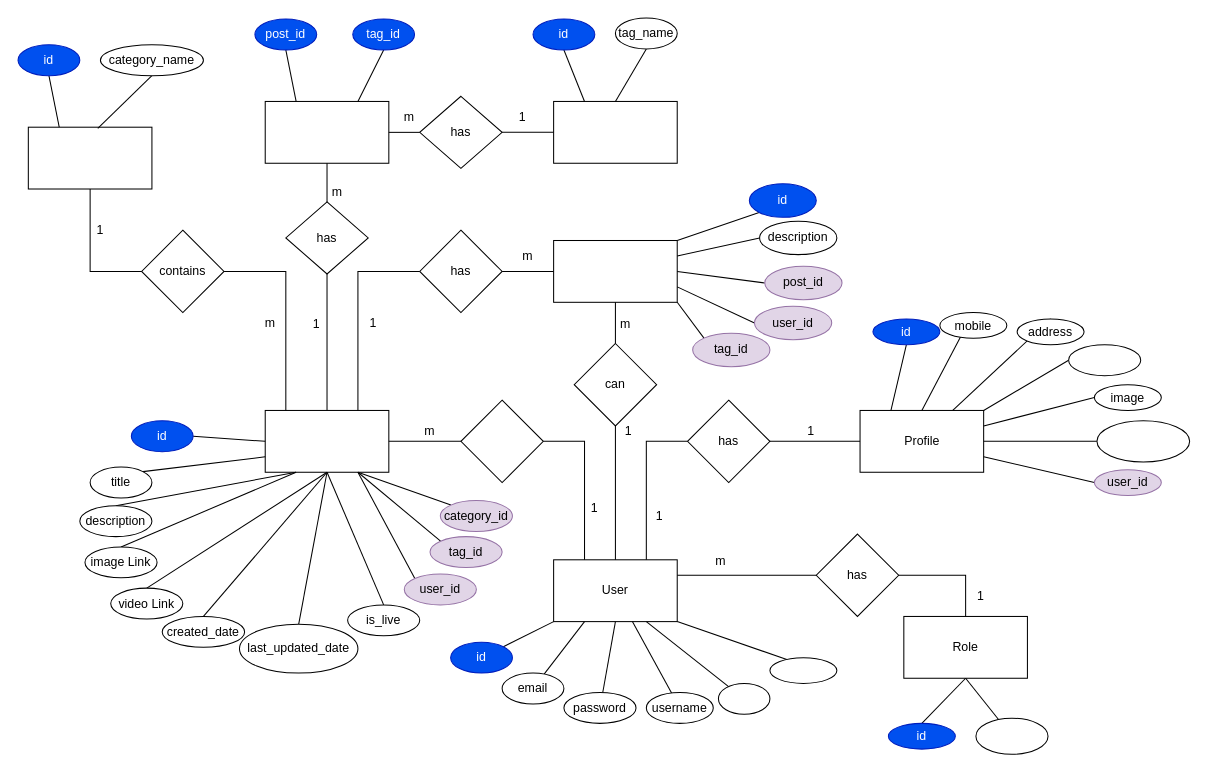
This 1208x773 diagram has some shape labels left out. Here are the shapes that lost their labels. From the top down, the centre of each, then its label:
At pixel 326 131: "Post-Tag".
At pixel 615 131: "Tag".
At pixel 89 157: "Category".
At pixel 615 270: "Comment".
At pixel 1104 360: "about".
At pixel 326 440: "Post".
At pixel 501 441: "creates".
At pixel 1143 441: "social media links".
At pixel 803 670: "active".
At pixel 743 698: "name".
At pixel 1011 735: "role_name".
